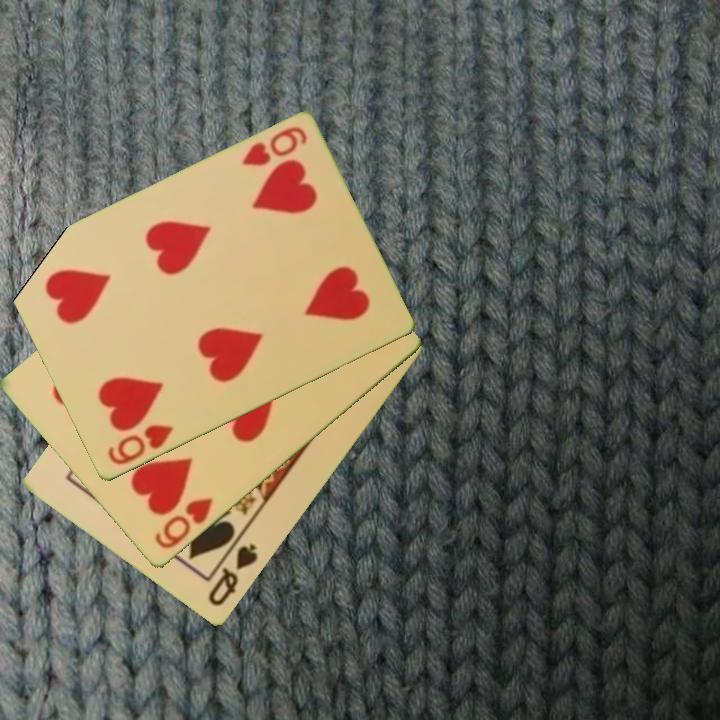6h: (151, 494, 216, 553), (104, 421, 176, 469), (238, 123, 310, 170)
Qs: (204, 540, 262, 610)
